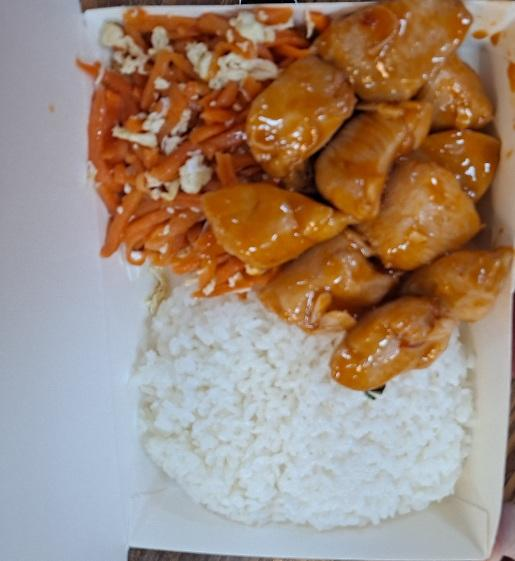big grilled chicken leg: (100, 0, 515, 561)
big herbal chicken leg: (142, 282, 476, 530)
braised fish fillet: (97, 16, 255, 258)
braised pork: (234, 12, 498, 366)
